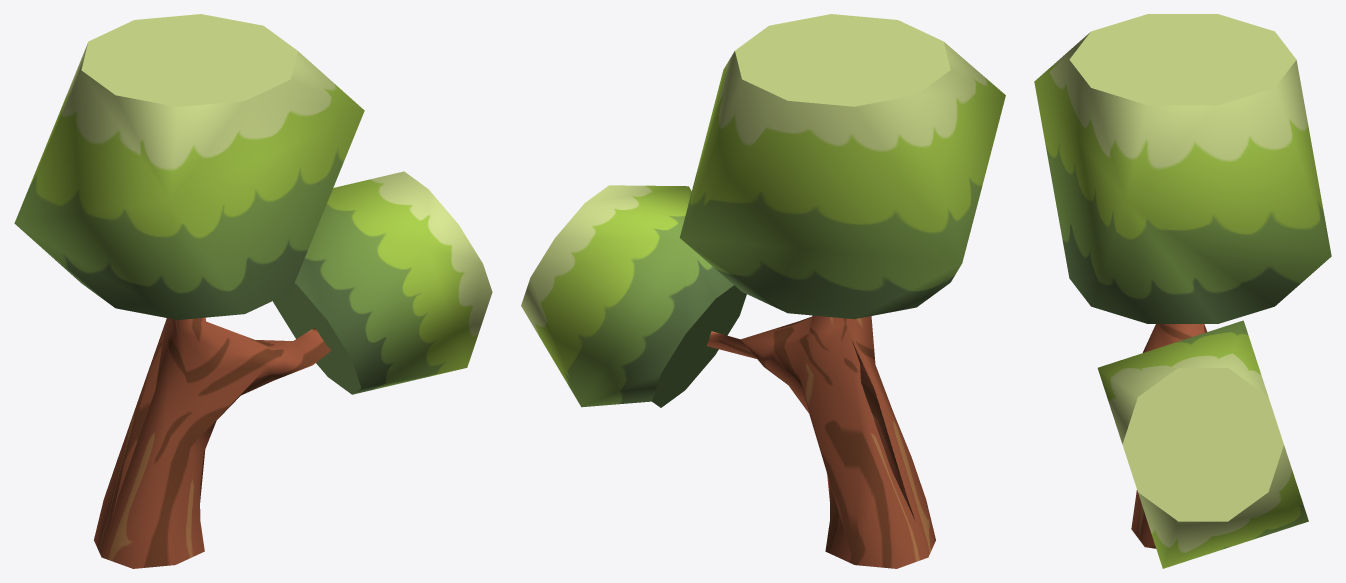
File: arvore03low.FBX
The picture shows the model from 3 angles, left to right: view 1: azimuth 30°, elevation 25°; view 2: azimuth 150°, elevation 25°; view 3: azimuth 270°, elevation 25°; orthographic projection. The views are drawn at different scales.
Parts seen in each view (by area): view 1: folhasArvore005, folhasArvore006, troncoArvore003; view 2: folhasArvore005, folhasArvore006, troncoArvore003; view 3: folhasArvore005, folhasArvore006, troncoArvore003.
Boxes of the visible parts, x1,y1,x2,y2 form: folhasArvore005: [14, 14, 364, 319]; folhasArvore006: [273, 171, 492, 394]; troncoArvore003: [94, 317, 331, 568]; folhasArvore005: [679, 14, 1005, 319]; folhasArvore006: [521, 185, 746, 407]; troncoArvore003: [706, 315, 935, 568]; folhasArvore005: [1034, 14, 1331, 323]; folhasArvore006: [1097, 320, 1308, 568]; troncoArvore003: [1131, 324, 1207, 548].
Size of the model in its own units: 201 by 208 by 115.
